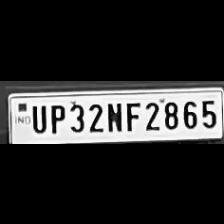2: (86, 99, 104, 133), (141, 98, 159, 132)
3: (66, 99, 84, 133)
5: (198, 96, 218, 128)
6: (180, 96, 198, 130)
8: (161, 97, 179, 130)
F: (123, 98, 141, 132)
N: (104, 98, 122, 132)
P: (46, 100, 66, 134)
U: (28, 101, 46, 133)
